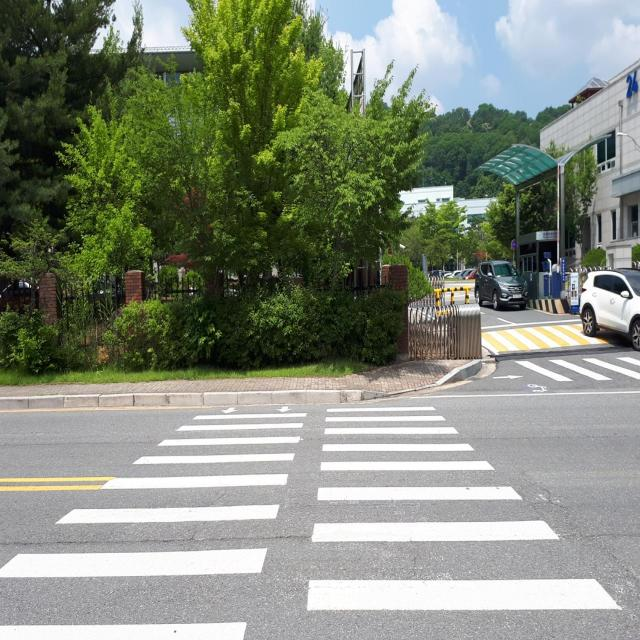횡단보도: (0, 397, 626, 640), (517, 344, 640, 394)
